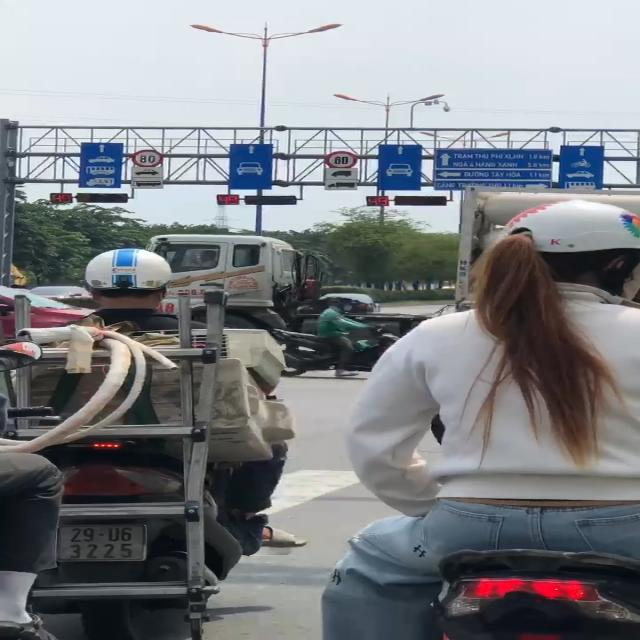Bien bao toc do toi da cho phep: (129, 146, 172, 169), (321, 148, 362, 170)
